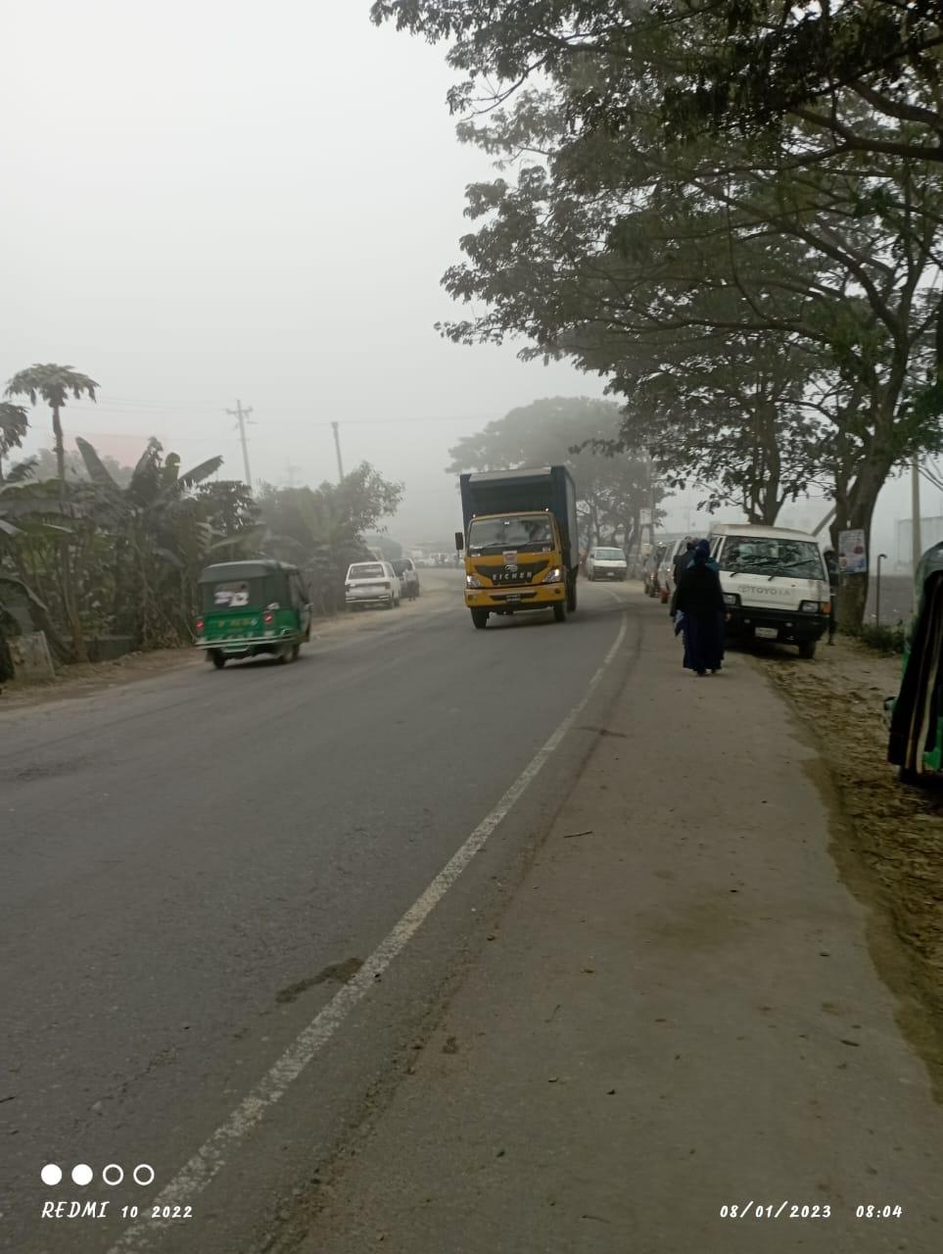Car: (702, 520, 836, 659), (339, 552, 404, 611), (586, 537, 632, 584)
Truck: (451, 459, 588, 626)
